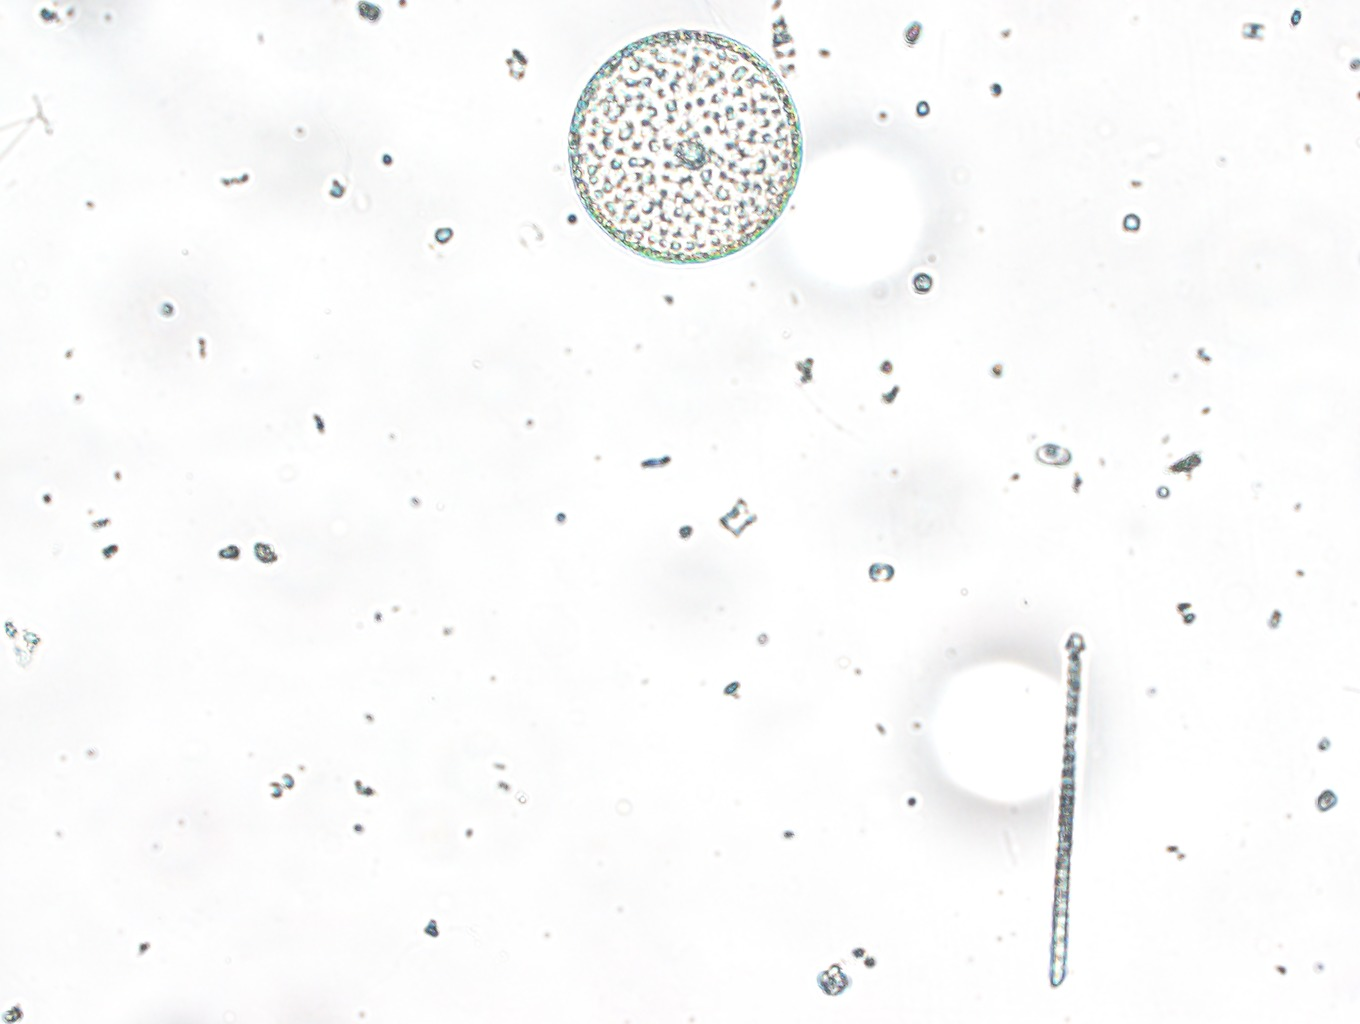coscinodiscus: (561, 23, 810, 264)
